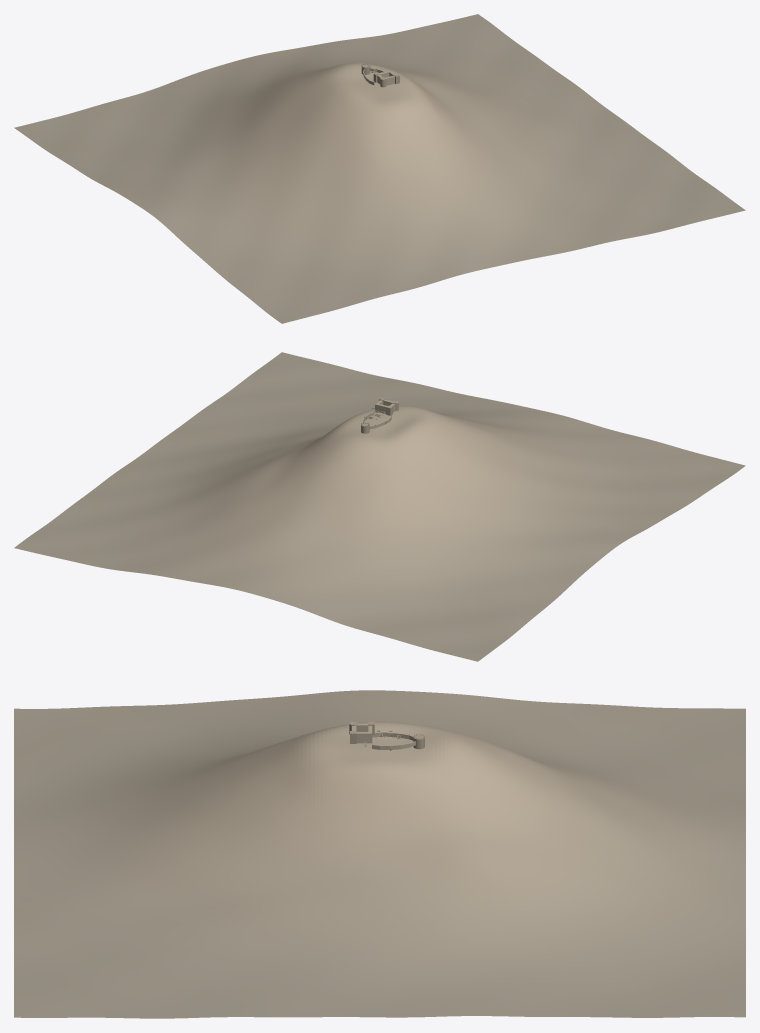
The model's file is castalla_current.glb.
3 renders of one model, top to bottom at view 1: azimuth 30°, elevation 25°; view 2: azimuth 150°, elevation 25°; view 3: azimuth 270°, elevation 25°, orthographic. The views are drawn at different scales.
Visible parts, largest first — view 1: world; view 2: world; view 3: world.
Boxes of the visible parts, x1,y1,x2,y2 form: world: [14, 14, 745, 323]; world: [14, 352, 745, 661]; world: [14, 690, 745, 1018].
Bounding box in the file's own units: 900 × 185 × 900.
